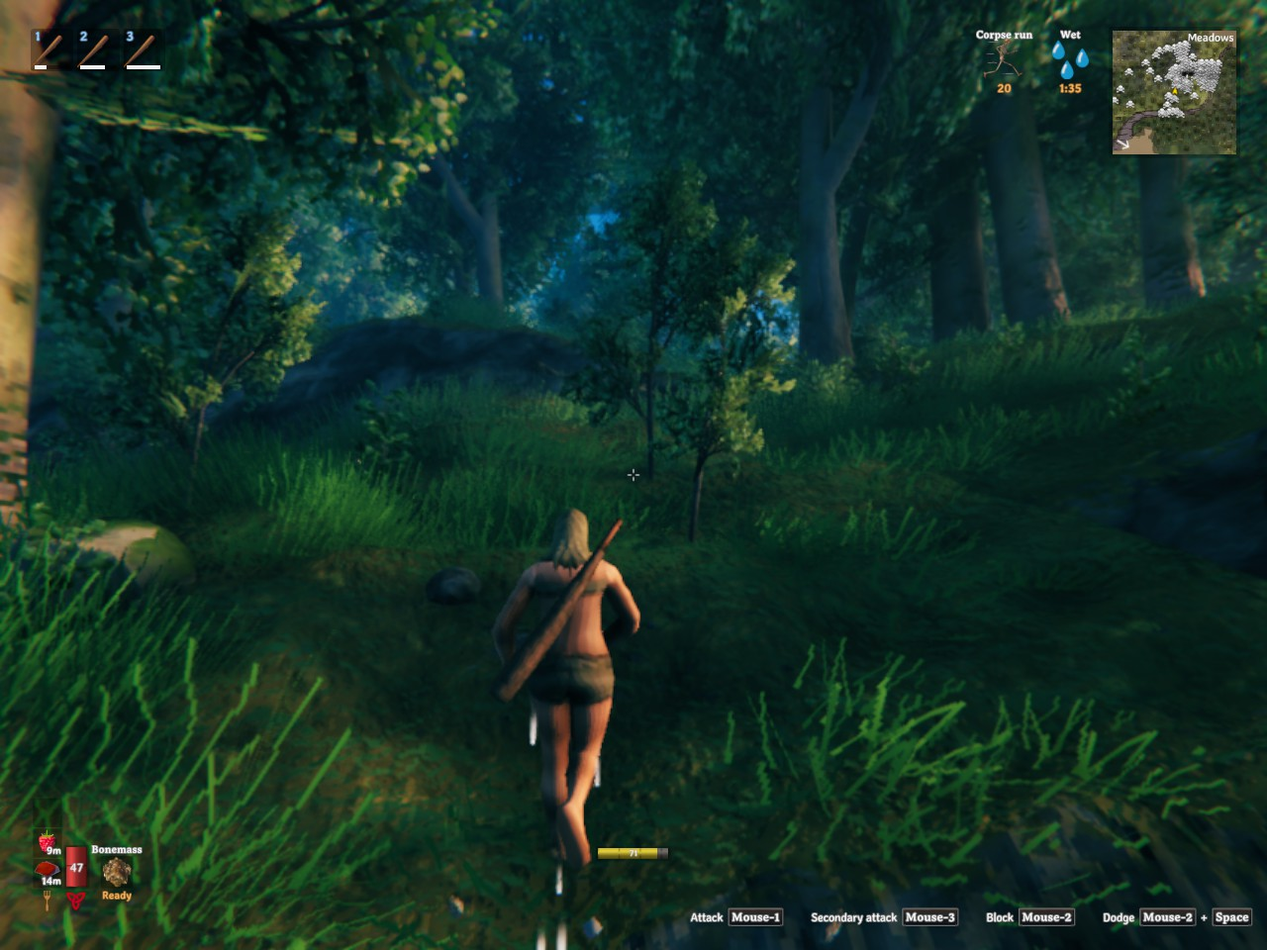Food Indicator: (36, 797, 63, 891)
Health Bar: (63, 820, 90, 891)
Hotbar: (24, 21, 195, 80)
Stamina Bar: (593, 841, 681, 865)
Status Indicator: (965, 24, 1109, 98)
Stone: (426, 566, 480, 605)
